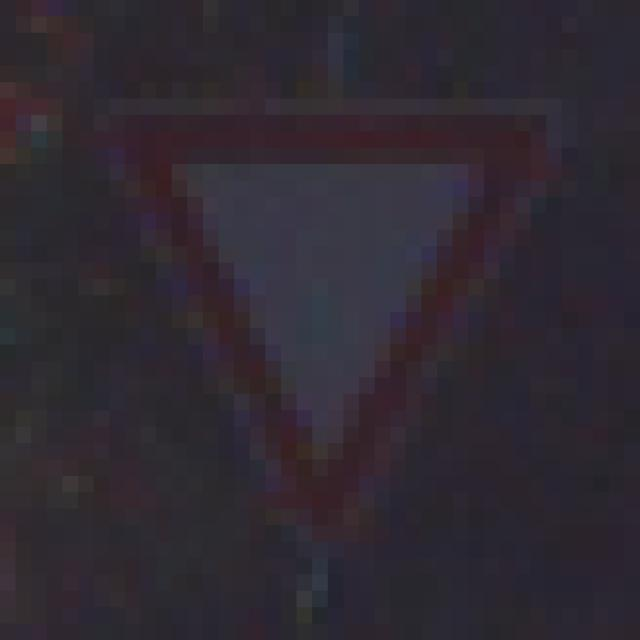Give Way: (79, 83, 547, 559)
